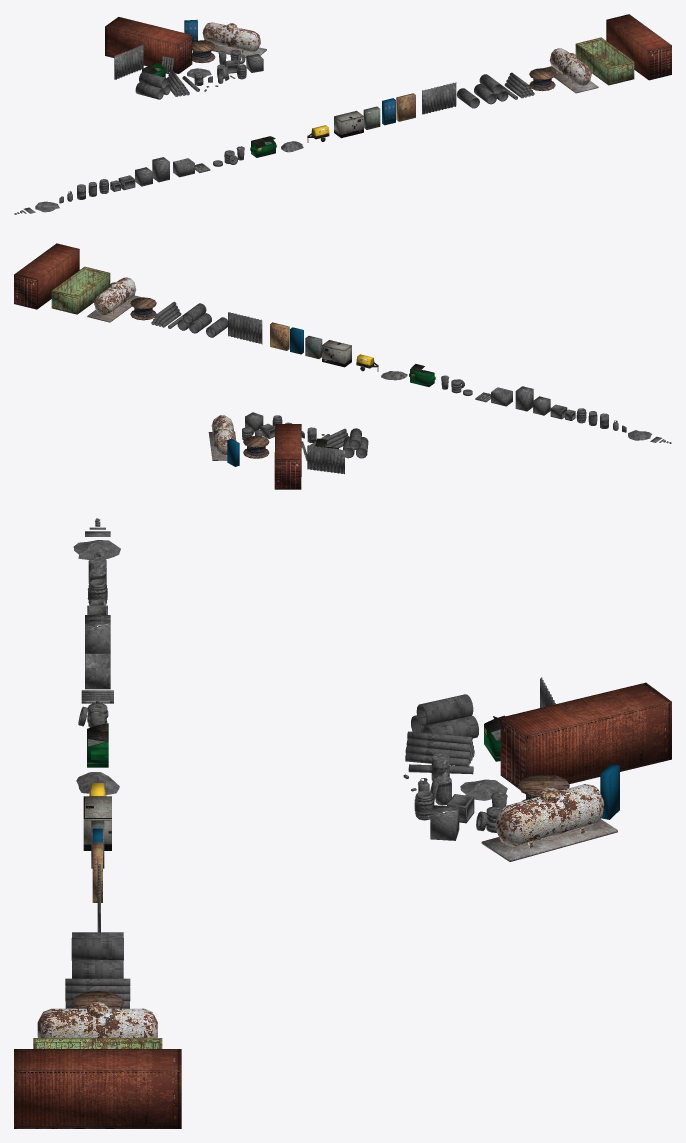
The picture shows the model from 3 angles, top to bottom: view 1: azimuth 30°, elevation 25°; view 2: azimuth 150°, elevation 25°; view 3: azimuth 270°, elevation 25°; orthographic projection. The views are drawn at different scales.
Visible parts, largest first — view 1: Showcase, CargoContainer, TrashContainer, PropaneTank, MetalSheet, GeneratorUnit, ConcretePipePile, Spool, Locker2, MetalPipePile, CrateMetal2, TransformerBox (+3 smaller); view 2: Showcase, CargoContainer, TrashContainer, PropaneTank, MetalSheet, GeneratorUnit, ConcretePipePile, Spool, Locker2, MetalPipePile, CrateMetal2; view 3: Showcase, CargoContainer, PropaneTank, ConcretePipePile, TrashContainer, MetalPipePile, GeneratorUnit, Crate, CrateMetal2.
Part boxes in pixels (x1,y1,x2,y2): Showcase: [105, 17, 266, 99]; CargoContainer: [606, 14, 671, 80]; TrashContainer: [575, 37, 634, 85]; PropaneTank: [543, 48, 598, 93]; MetalSheet: [422, 82, 456, 114]; GeneratorUnit: [334, 111, 363, 138]; ConcretePipePile: [474, 74, 508, 104]; Spool: [529, 68, 555, 91]; Locker2: [396, 93, 415, 121]; MetalPipePile: [504, 72, 534, 98]; CrateMetal2: [152, 157, 169, 182]; TransformerBox: [363, 106, 380, 129]; Showcase: [208, 412, 368, 489]; CargoContainer: [14, 243, 79, 309]; TrashContainer: [51, 266, 110, 314]; PropaneTank: [87, 277, 141, 322]; MetalSheet: [228, 312, 262, 344]; GeneratorUnit: [322, 340, 351, 367]; ConcretePipePile: [177, 303, 211, 333]; Spool: [130, 297, 156, 320]; Locker2: [270, 322, 289, 350]; MetalPipePile: [151, 301, 181, 327]; CrateMetal2: [515, 386, 533, 411]; Showcase: [403, 677, 671, 861]; CargoContainer: [14, 1049, 181, 1128]; PropaneTank: [37, 1002, 157, 1037]; ConcretePipePile: [71, 938, 123, 978]; TrashContainer: [33, 1038, 162, 1048]; MetalPipePile: [65, 978, 130, 1008]; GeneratorUnit: [83, 796, 111, 850]; Crate: [85, 653, 110, 689]; CrateMetal2: [85, 619, 110, 653].
Bounding box in the file's own units: 55.9 × 2.5 × 25.52.
